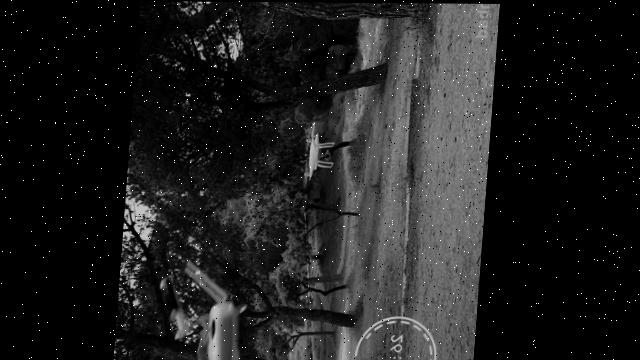drone: (301, 121, 342, 187)
